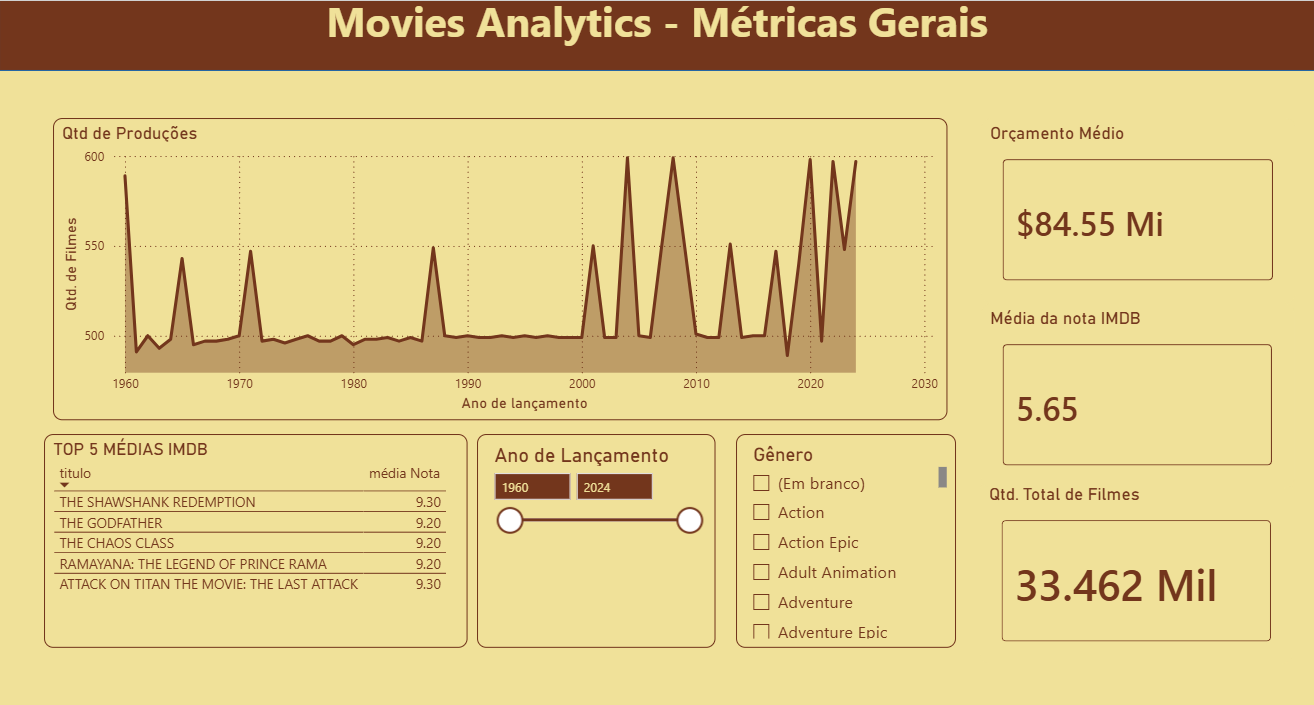

What the dashboard file says about the page in this screenshot:
{"tool":"powerbi","page":{"name":"Página 1","canvas":[1280,720],"ordinal":0},"visuals":[{"type":"shape","title":"Relatório ","box":[0,0,1280,100.2],"z":0},{"type":"areaChart","title":"Qtd de Produções","fields":{"Category":["filmes.ano_lancamento"],"Y":["CountNonNull(filmes.id)"]},"box":[52.5,145.9,869.5,293.7],"z":1000},{"type":"cardVisual","title":"Qtd. Total de Filmes","fields":{"Data":["Count(filmes.id)"]},"box":[954.2,497,304.4,179.9],"z":2000},{"type":"cardVisual","title":"Média da nota IMDB","fields":{"Data":["filmes.média Nota"]},"box":[955.2,325.9,304.5,179.6],"z":3000},{"type":"cardVisual","title":"Orçamento Médio","fields":{"Data":["filmes.orçamento médio"]},"box":[955.1,145.9,305.7,179.6],"z":4000},{"type":"slicer","fields":{"Values":["filmes.ano_lancamento"]},"box":[464.9,453.3,232.5,208.1],"z":5000},{"type":"slicer","fields":{"Values":["filmes.genero"]},"box":[716.8,453.3,214,208.1],"z":6000},{"type":"tableEx","title":"TOP 5 MÉDIAS IMDB","fields":{"Values":["filmes.titulo","filmes.média Nota"]},"box":[43.8,453.3,412.4,208.1],"z":7000}]}

Visuals, with their boxes on the page's 1280x720 design canvas (x1, y1, x2, y2). These are canvas units, not pixel positions in the 1314x705 screenshot, which may show the page scaled, cropped or inside an application window:
"Relatório " shape: x1=0 y1=0 x2=1280 y2=100
"Qtd de Produções" areaChart: x1=52 y1=146 x2=922 y2=440
"Qtd. Total de Filmes" cardVisual: x1=954 y1=497 x2=1259 y2=677
"Média da nota IMDB" cardVisual: x1=955 y1=326 x2=1260 y2=506
"Orçamento Médio" cardVisual: x1=955 y1=146 x2=1261 y2=326
slicer - filmes.ano_lancamento: x1=465 y1=453 x2=697 y2=661
slicer - filmes.genero: x1=717 y1=453 x2=931 y2=661
"TOP 5 MÉDIAS IMDB" tableEx: x1=44 y1=453 x2=456 y2=661
